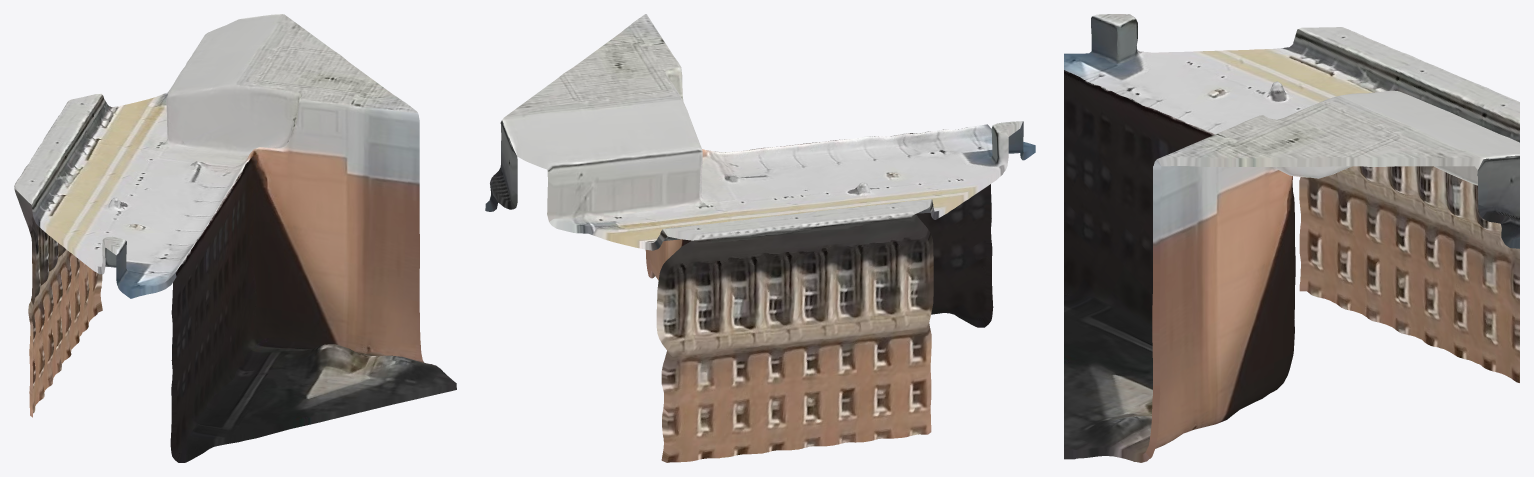
The model's file is z20-167786-405227-h1-yup-uvflip-v3-world.glb.
The picture shows the model from 3 angles, left to right: view 1: azimuth 30°, elevation 25°; view 2: azimuth 150°, elevation 25°; view 3: azimuth 270°, elevation 25°; orthographic projection. The views are drawn at different scales.
Size of the model in its own units: 30.2 by 23.92 by 30.32.
Materials: 1 (1 with a texture image).
